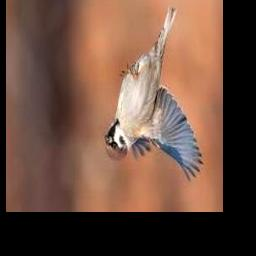Sparrow: (105, 9, 203, 183)
